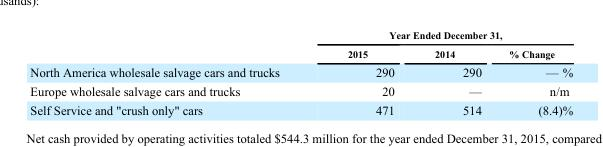table: (29, 29, 572, 116)
table column: (29, 29, 312, 116), (312, 29, 413, 116), (413, 29, 494, 116), (494, 29, 572, 116)
table column header: (29, 29, 572, 62)
table row: (29, 80, 572, 99), (29, 44, 572, 62), (29, 62, 572, 80), (29, 99, 572, 116), (29, 29, 572, 44)
table spanning cell: (312, 29, 572, 44)
